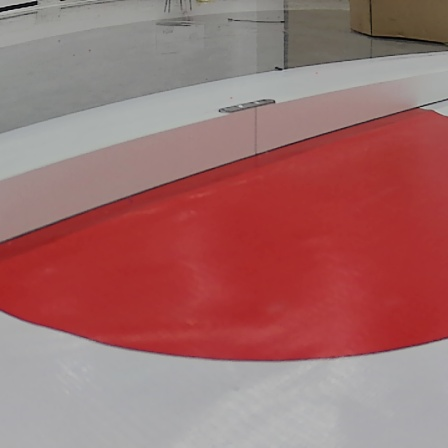red_base: (7, 100, 448, 368)
